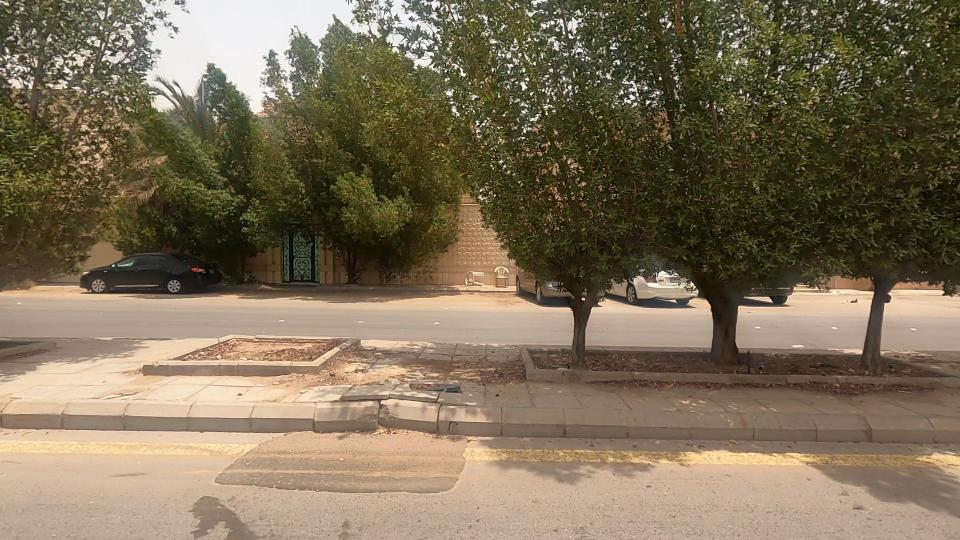CLUTTER_SIDEWALK: (136, 300, 383, 398)
